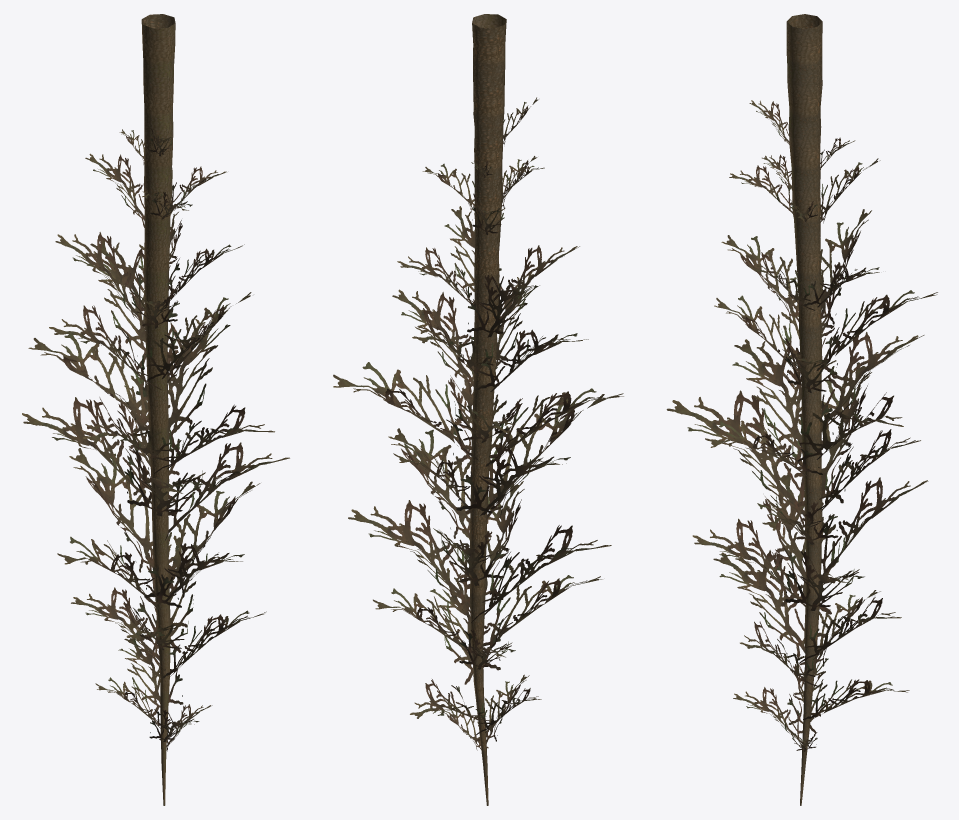
The model's file is BIO_VEG_SpruceTree_01B.fbx.
The picture shows the model from 3 angles, left to right: view 1: azimuth 30°, elevation 25°; view 2: azimuth 150°, elevation 25°; view 3: azimuth 270°, elevation 25°; orthographic projection.
Parts seen in each view (by area): view 1: BIO_VEG_SpruceTree_01B; view 2: BIO_VEG_SpruceTree_01B; view 3: BIO_VEG_SpruceTree_01B.
Boxes of the visible parts, <box> form: BIO_VEG_SpruceTree_01B: <box>22,14,289,805</box>; BIO_VEG_SpruceTree_01B: <box>333,14,623,805</box>; BIO_VEG_SpruceTree_01B: <box>666,14,937,805</box>.
Size of the model in its own units: 470 by 1466 by 484.
